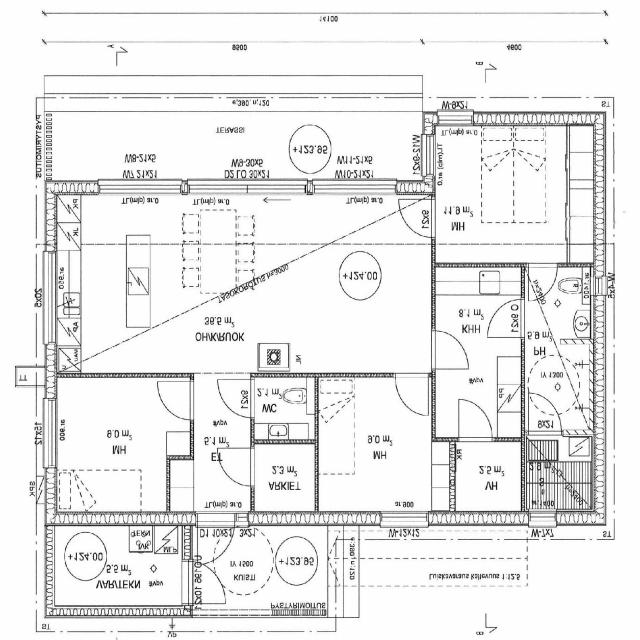door: (197, 510, 235, 570), (182, 561, 230, 603), (398, 199, 436, 238), (528, 392, 562, 435), (459, 399, 492, 442), (488, 299, 525, 337), (218, 448, 255, 486), (218, 379, 255, 417), (157, 382, 194, 419), (396, 372, 428, 414), (432, 331, 468, 368), (528, 262, 558, 300)
